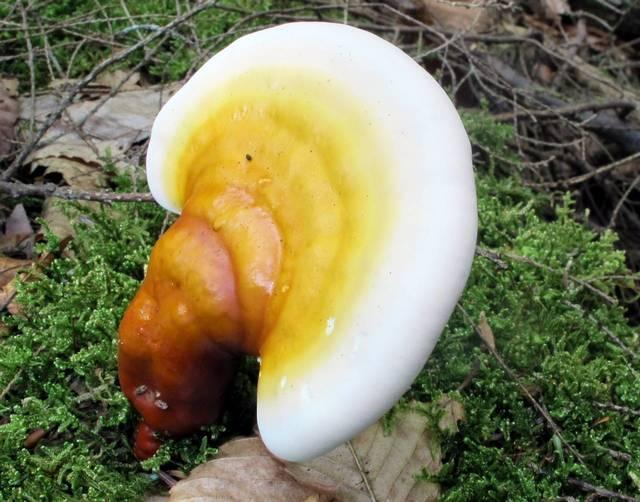poisonous_mushroom: (115, 19, 480, 464)
